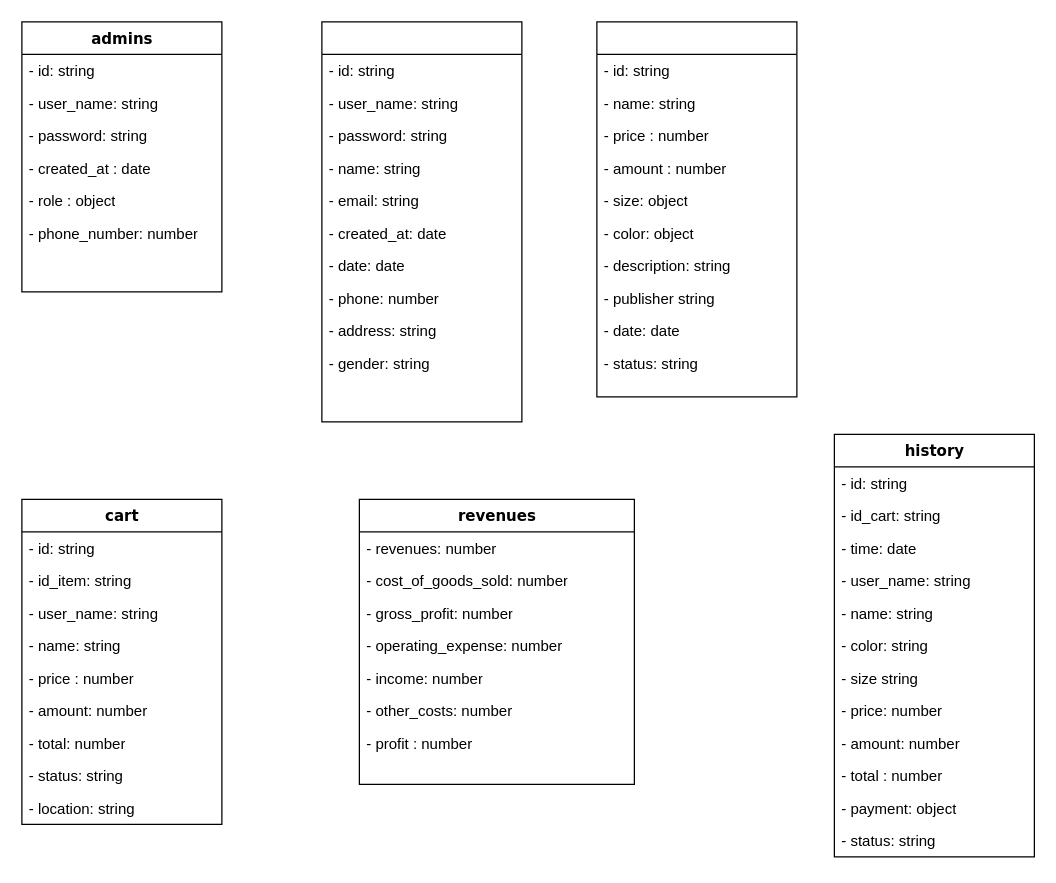
This 1056x883 diagram has some shape labels left out. Each missing label, with the box of its shape:
item: (596, 21, 797, 397)
users: (321, 21, 522, 422)
